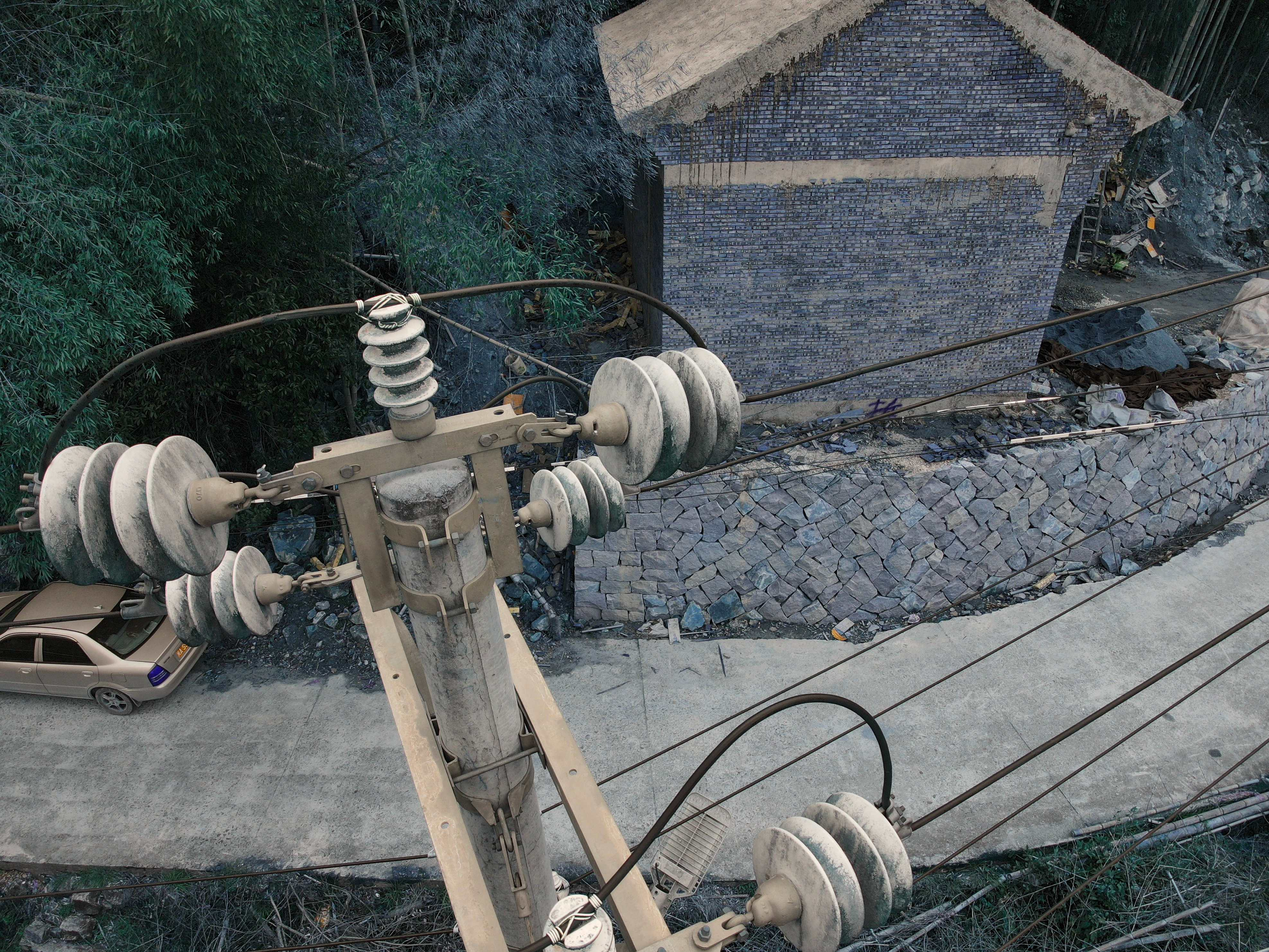severe_soiling_no_discharge_whole: (31, 433, 250, 589), (745, 792, 918, 944), (583, 342, 741, 486), (160, 540, 296, 649), (355, 293, 442, 439), (522, 456, 632, 554), (541, 892, 619, 950)
